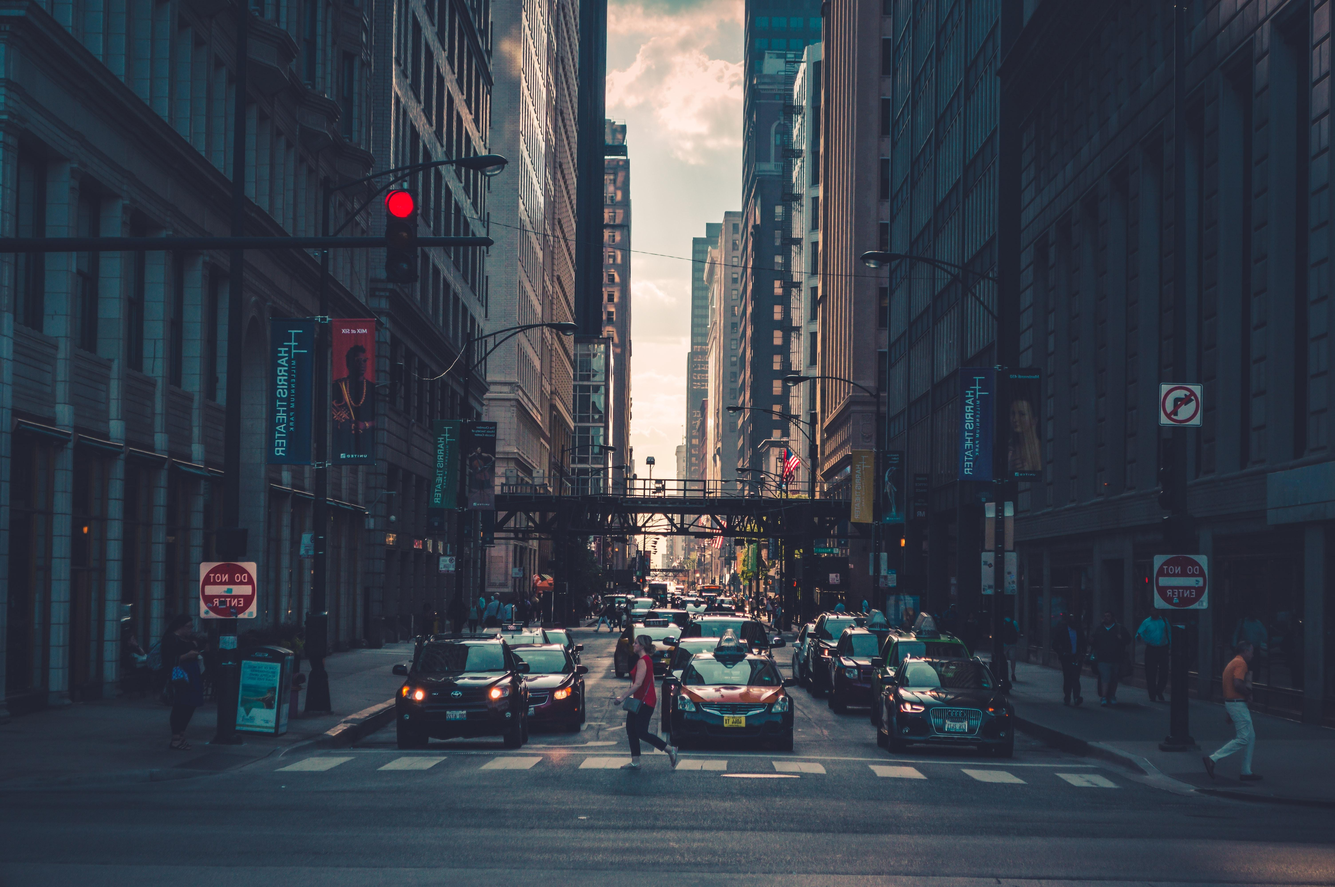red: (373, 169, 437, 299)
